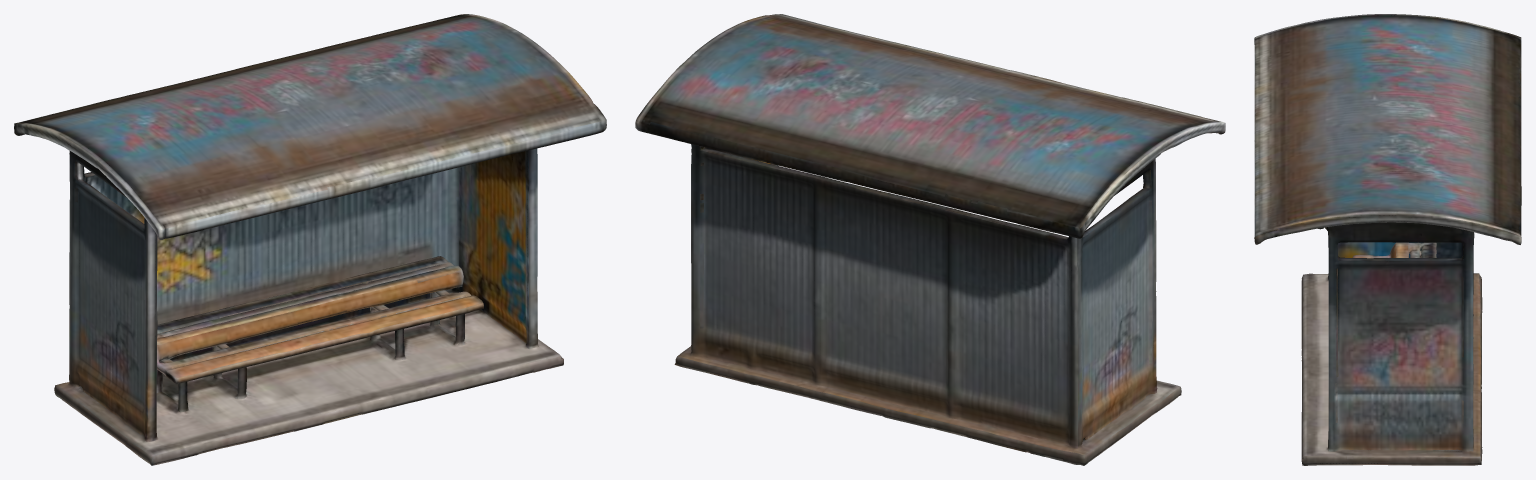
The model's file is ponto_pichado.glb.
3 views of the same model, side by side, from view 1: azimuth 30°, elevation 25°; view 2: azimuth 150°, elevation 25°; view 3: azimuth 270°, elevation 25° (orthographic). The views are drawn at different scales.
Parts seen in each view (by area): view 1: raiz; view 2: raiz; view 3: raiz.
Boxes of the visible parts, bbox=[...] form: raiz: bbox=[14, 14, 606, 465]; raiz: bbox=[635, 14, 1225, 465]; raiz: bbox=[1254, 14, 1521, 465].
Bounding box in the file's own units: 4.19 × 2.55 × 2.36.
1 material, 1 textured.
